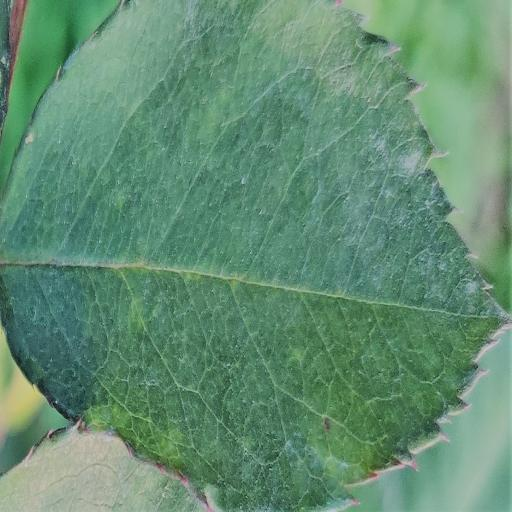healthy_leaf: (0, 0, 507, 511)
